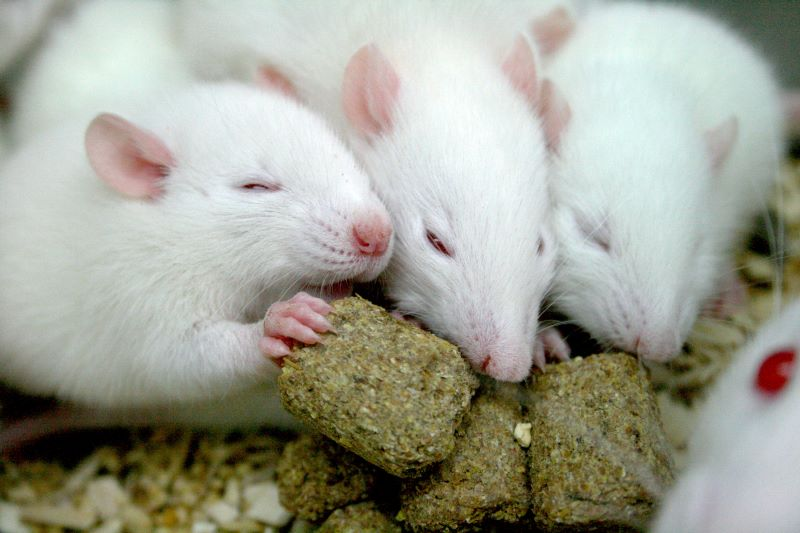mouse: (16, 70, 392, 379), (330, 25, 557, 408), (536, 46, 760, 402)
